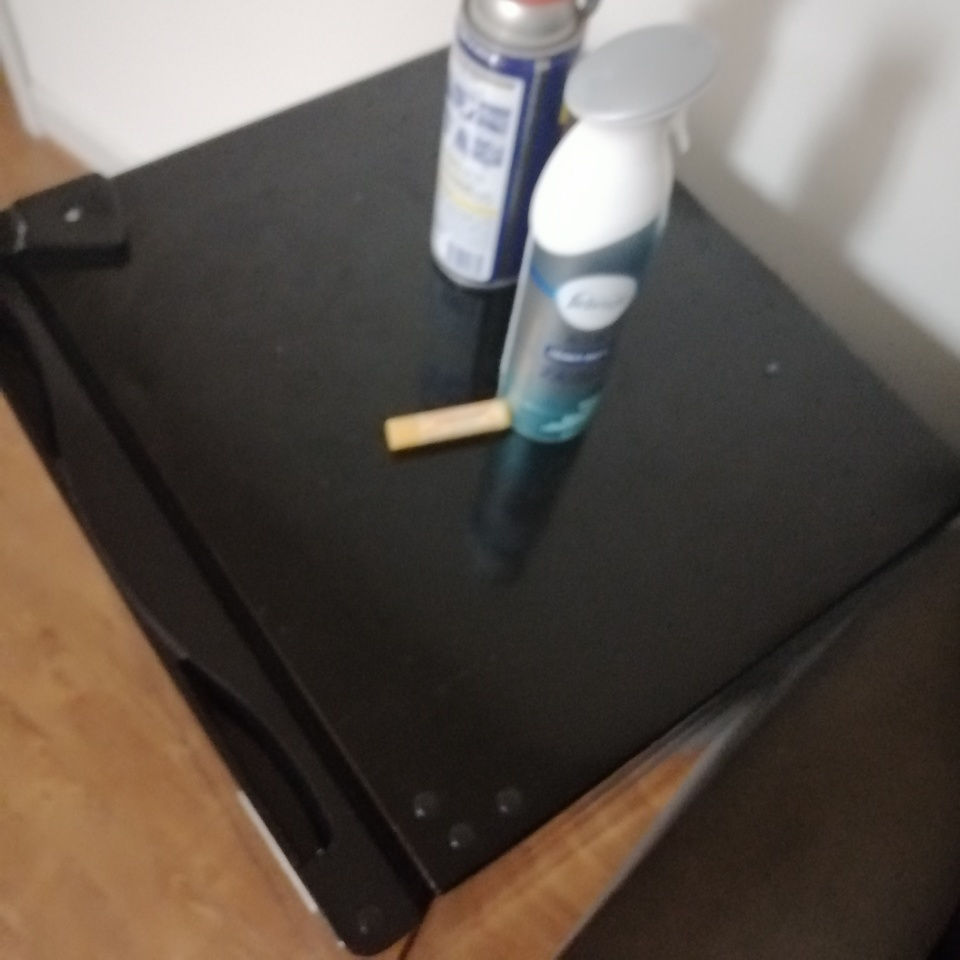chapstick: (382, 397, 512, 452)
